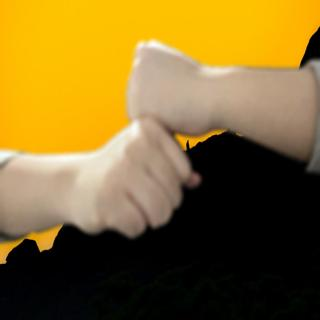CAREFUL: (26, 40, 303, 240)
